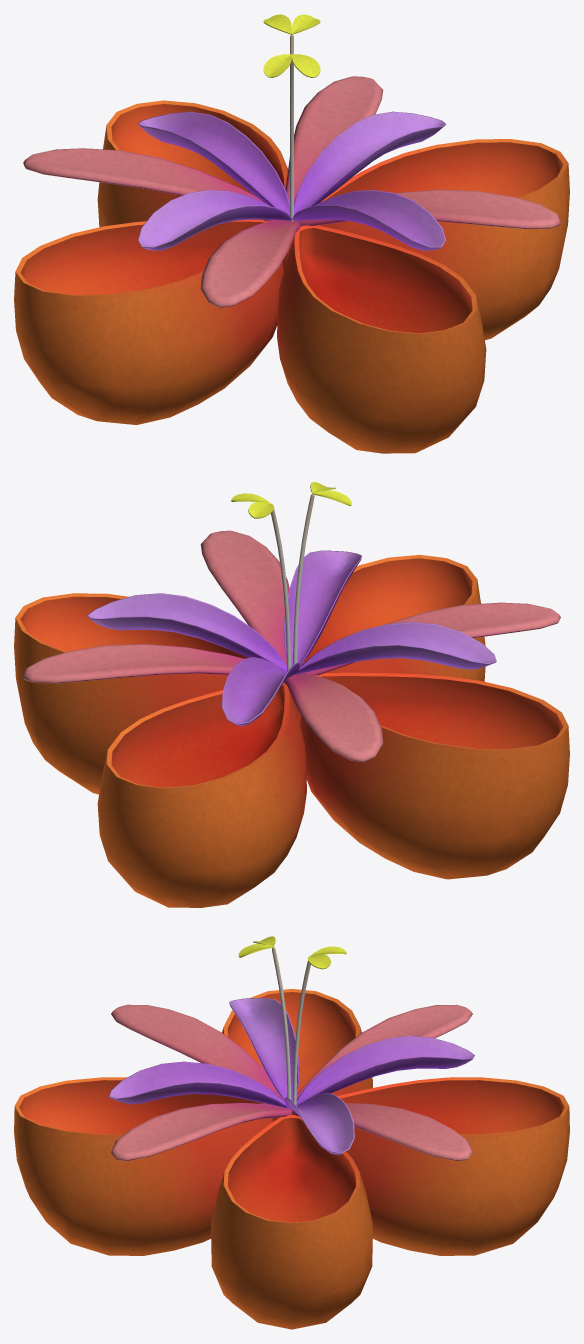
The model's file is flowerLeafy.fbx.
3 renders of one model, top to bottom at view 1: azimuth 30°, elevation 25°; view 2: azimuth 150°, elevation 25°; view 3: azimuth 270°, elevation 25°, orthographic. The views are drawn at different scales.
Visible parts, largest first — view 1: flowerLeafy; view 2: flowerLeafy; view 3: flowerLeafy.
Boxes of the visible parts, x1=… form: flowerLeafy: x1=14, y1=14, x2=569, y2=453; flowerLeafy: x1=14, y1=482, x2=569, y2=907; flowerLeafy: x1=14, y1=936, x2=569, y2=1329.
Size of the model in its own units: 19.01 by 11.41 by 19.01.
1 material, 1 textured.
